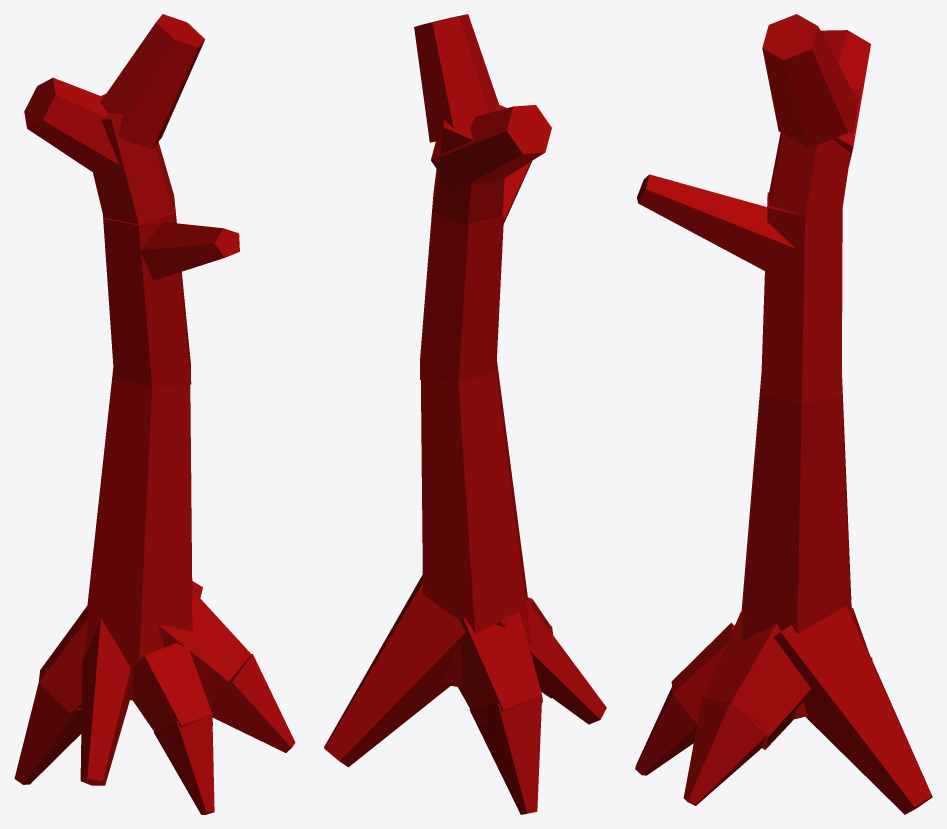
The model's file is SM_Env_Tree_Forest_03_Collision.glb.
3 views of the same model, side by side, from view 1: azimuth 30°, elevation 25°; view 2: azimuth 150°, elevation 25°; view 3: azimuth 270°, elevation 25° (orthographic). The views are drawn at different scales.
Parts seen in each view (by area): view 1: SM_Env_Tree_Forest_03_Collision; view 2: SM_Env_Tree_Forest_03_Collision; view 3: SM_Env_Tree_Forest_03_Collision.
Boxes of the visible parts, x1,y1,x2,y2 form: SM_Env_Tree_Forest_03_Collision: [14, 14, 295, 814]; SM_Env_Tree_Forest_03_Collision: [324, 14, 606, 814]; SM_Env_Tree_Forest_03_Collision: [635, 14, 932, 814].
Size of the model in its own units: 1.8 by 6.57 by 2.22.
